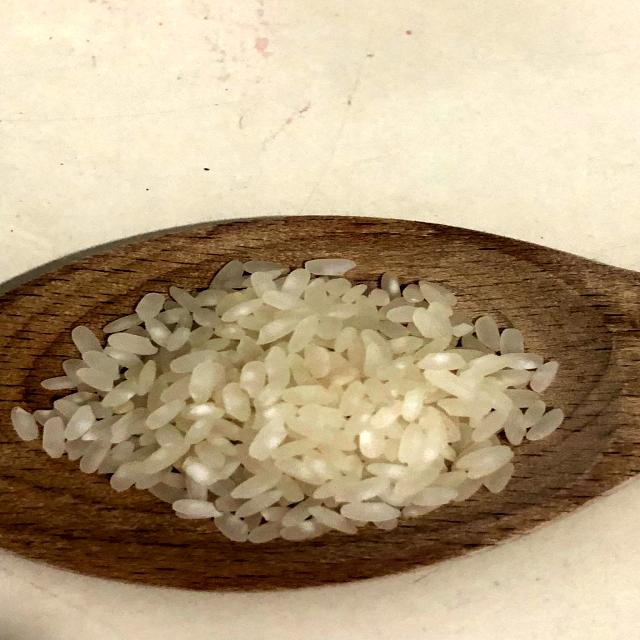rice: (8, 212, 582, 560)
